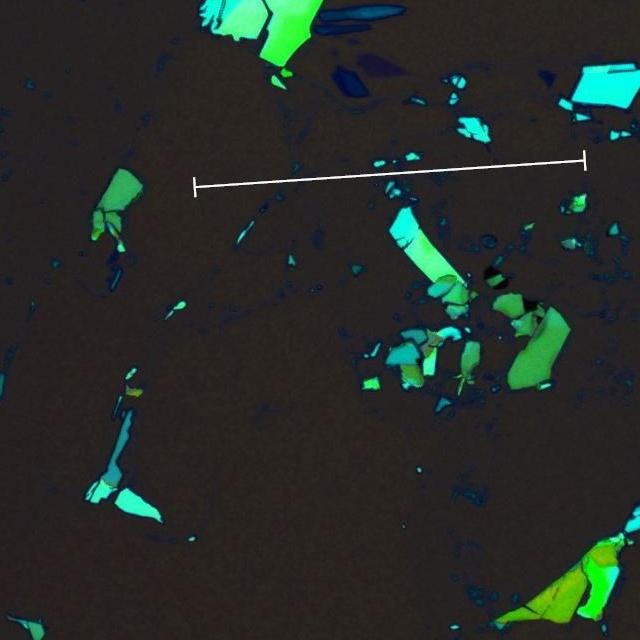monolayer-eWW4: (353, 48, 409, 80)
